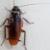cockroach: (6, 5, 22, 46)
